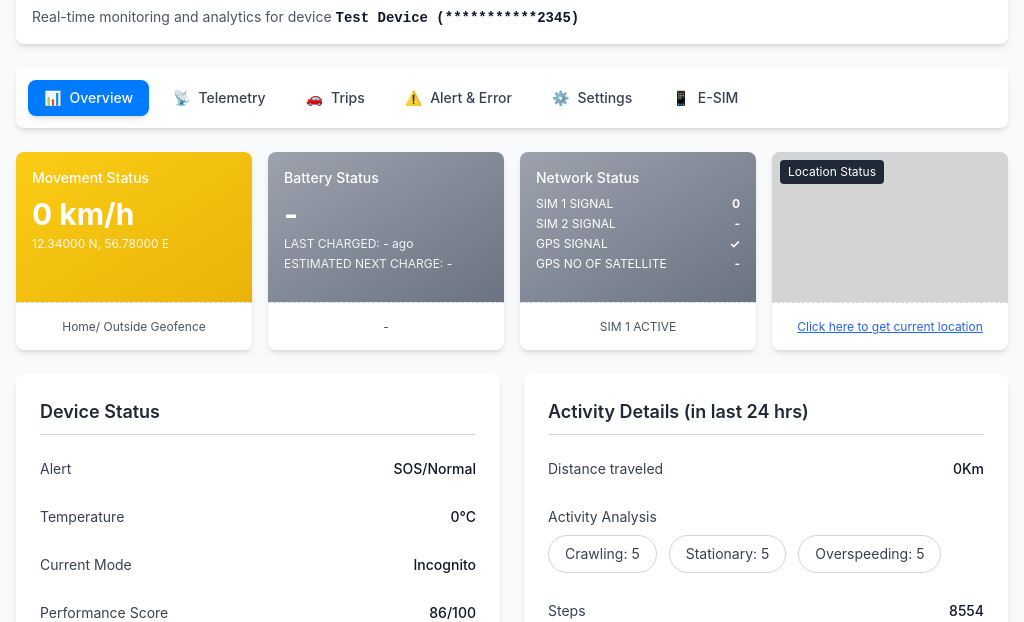
Test: Preservation Property Tests: Other Settings Tab Features › Property 2.3: Safety section displays temperature and speed limits correctly
Click the button "⚙️ Settings".
click(592, 98)  # box [536,80,648,116]
(page scrolled)
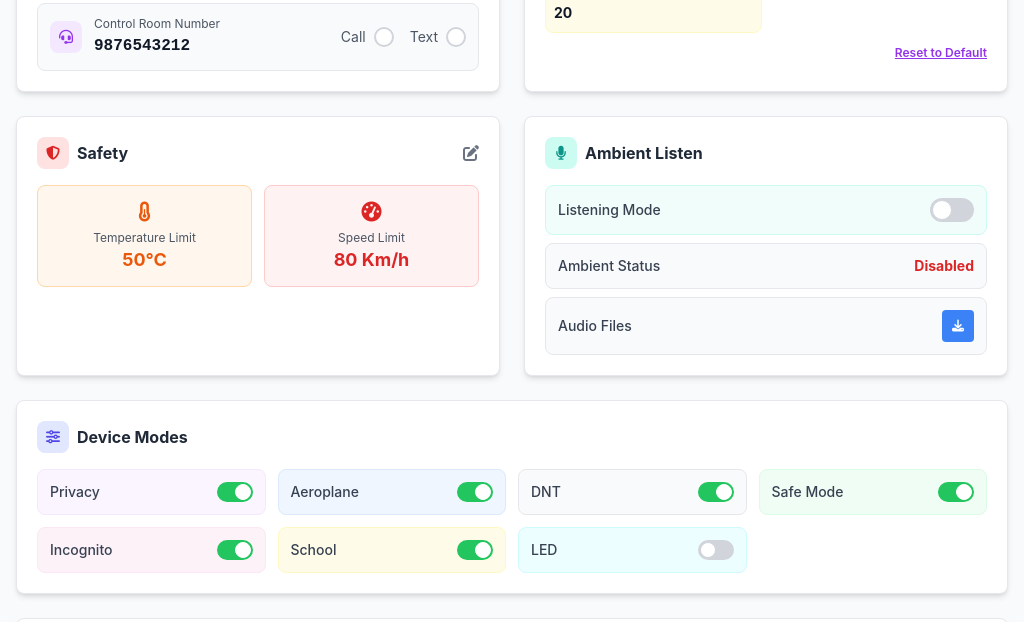
Result: the text "50°C" is shown at [122,249,167,270]
Result: the text "80 Km/h" is shown at [334,249,409,270]
Result: the text "Temperature Limit" is shown at [93,230,196,245]
